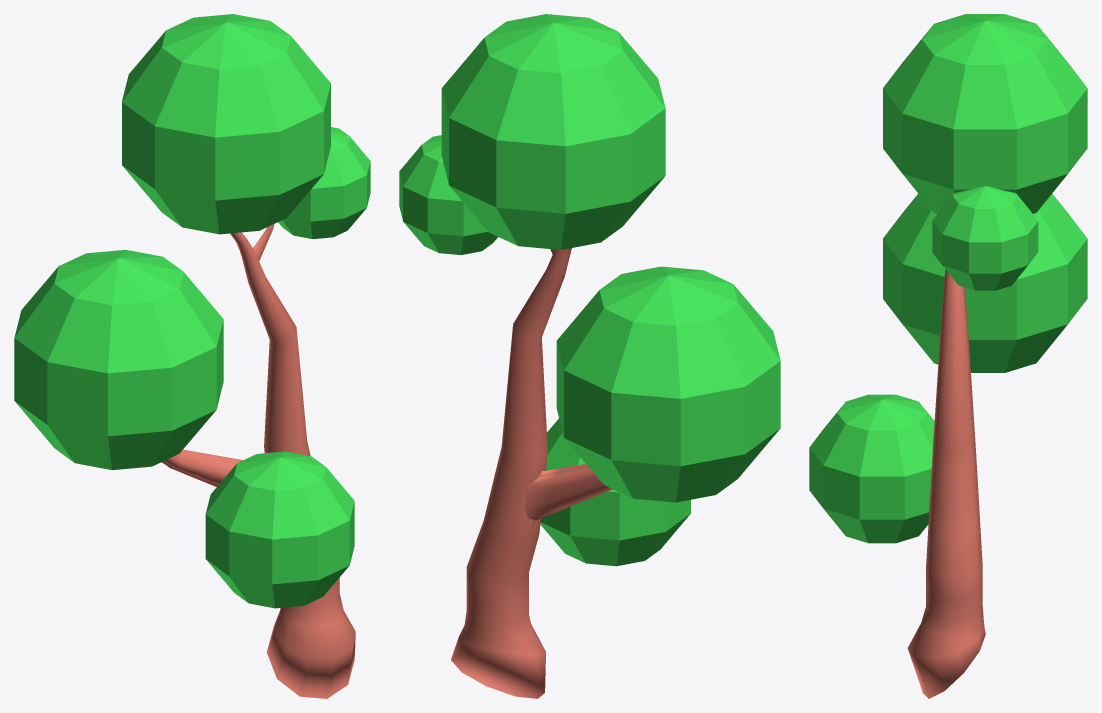
The model's file is MindTreebar2.fbx.
3 renders of one model, left to right at view 1: azimuth 30°, elevation 25°; view 2: azimuth 150°, elevation 25°; view 3: azimuth 270°, elevation 25°, orthographic. The views are drawn at different scales.
Parts seen in each view (by area): view 1: Sphere.003, Cylinder; view 2: Sphere.003, Cylinder; view 3: Sphere.003, Cylinder.
Part boxes in pixels (x1,y1,x2,y2): Sphere.003: (14,14,370,608); Cylinder: (161,224,355,698); Sphere.003: (399,14,780,566); Cylinder: (451,248,612,698); Sphere.003: (809,14,1087,543); Cylinder: (907,269,985,698).
Size of the model in its own units: 78.19 by 151 by 59.46.
